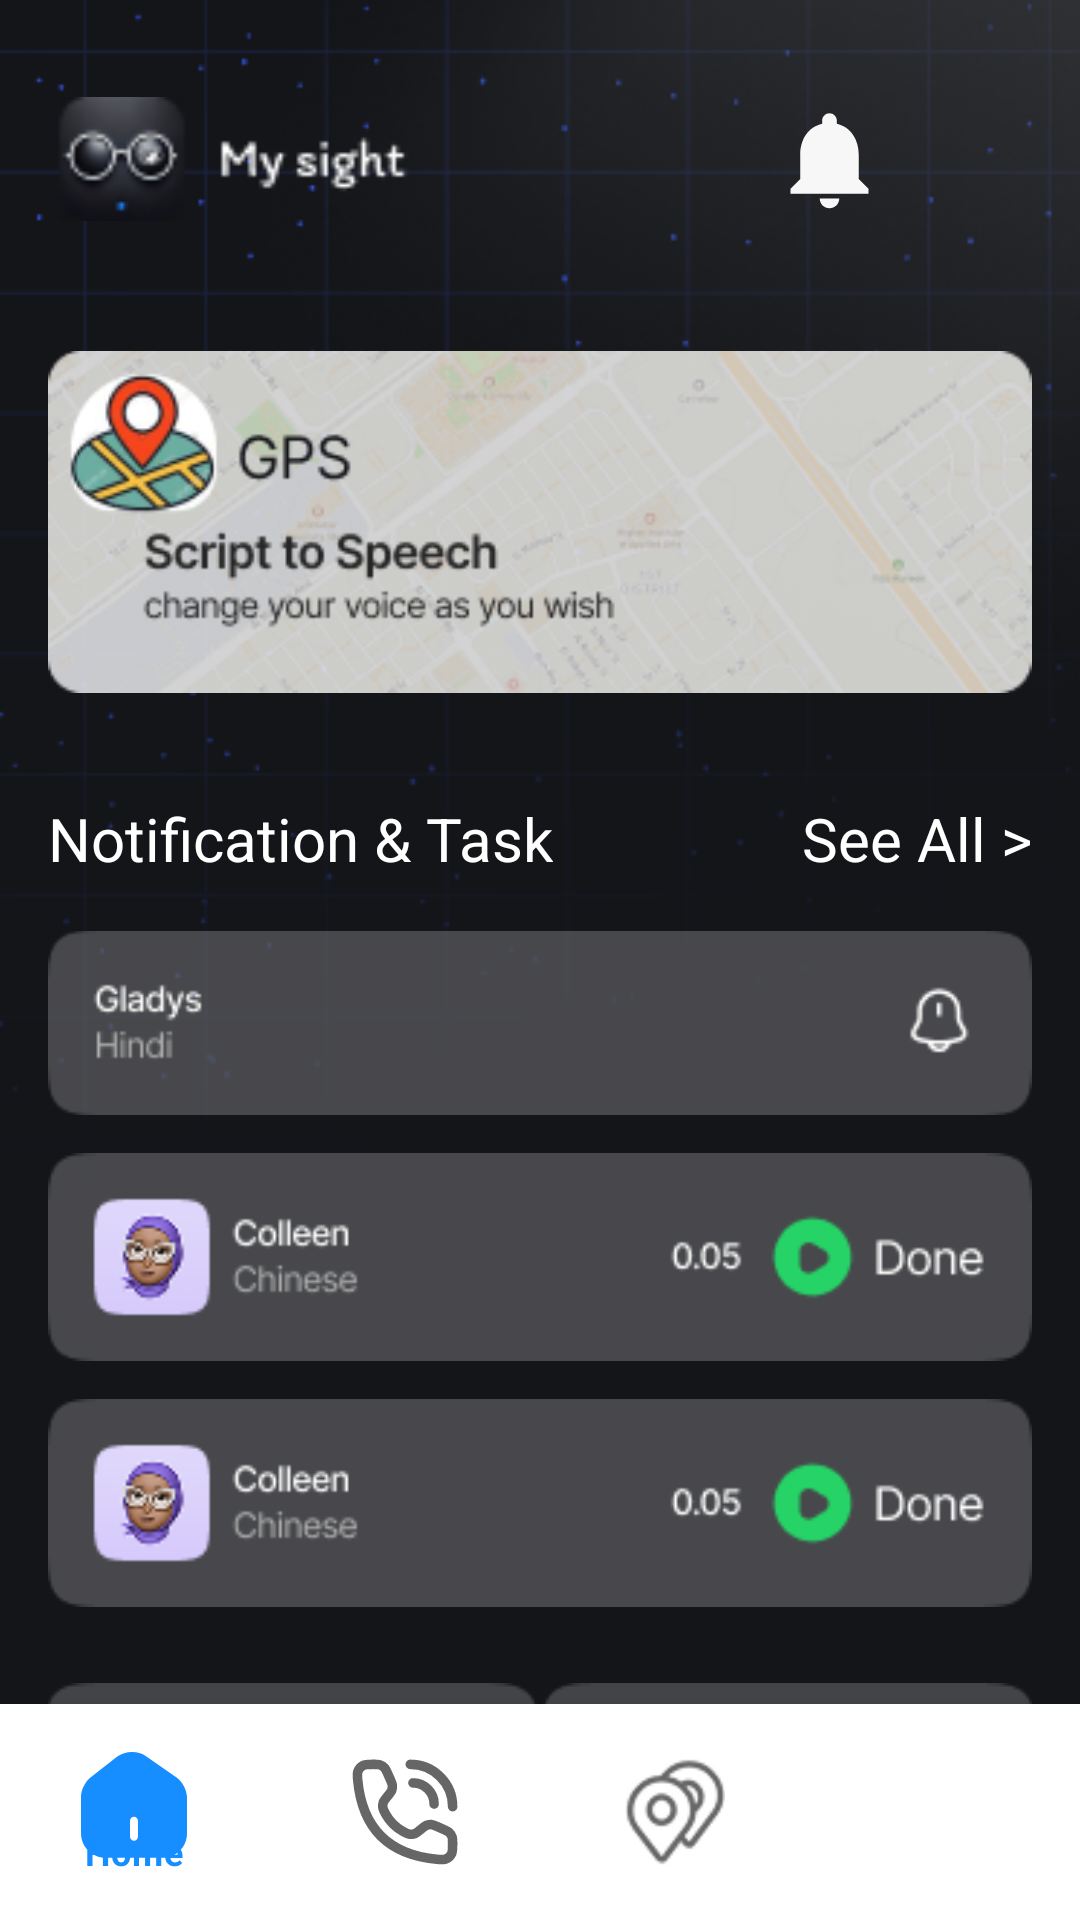

Point at icon controls on the screen. Image size 1080*1920, points as point (x, y).
notification: point (829, 161)
